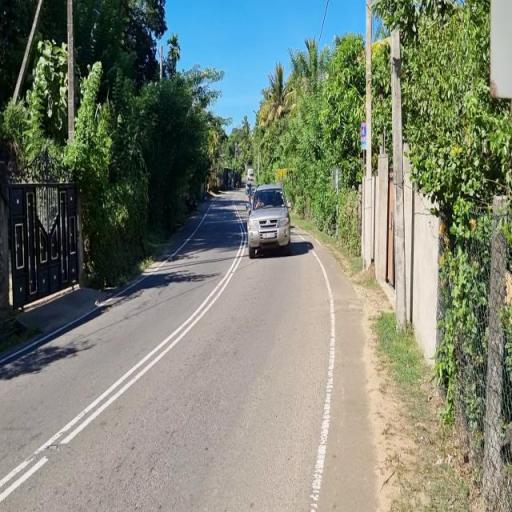double_white_line: (0, 243, 245, 499)
